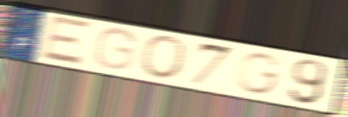7: (189, 40, 236, 86)
9: (288, 58, 330, 107)
E: (39, 14, 95, 67)
G: (235, 51, 285, 97), (91, 27, 139, 71)
O: (138, 34, 189, 81)
